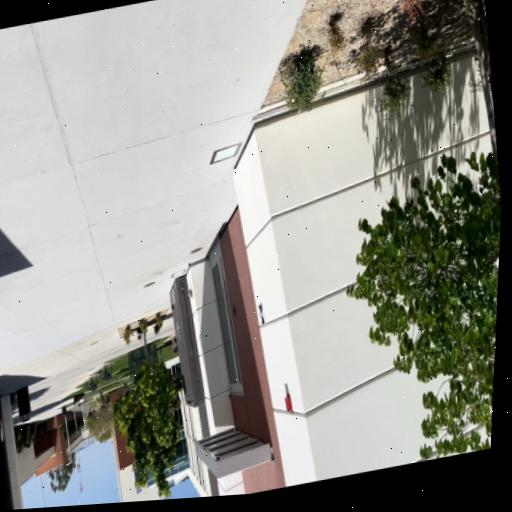target9: (259, 304, 265, 325)
